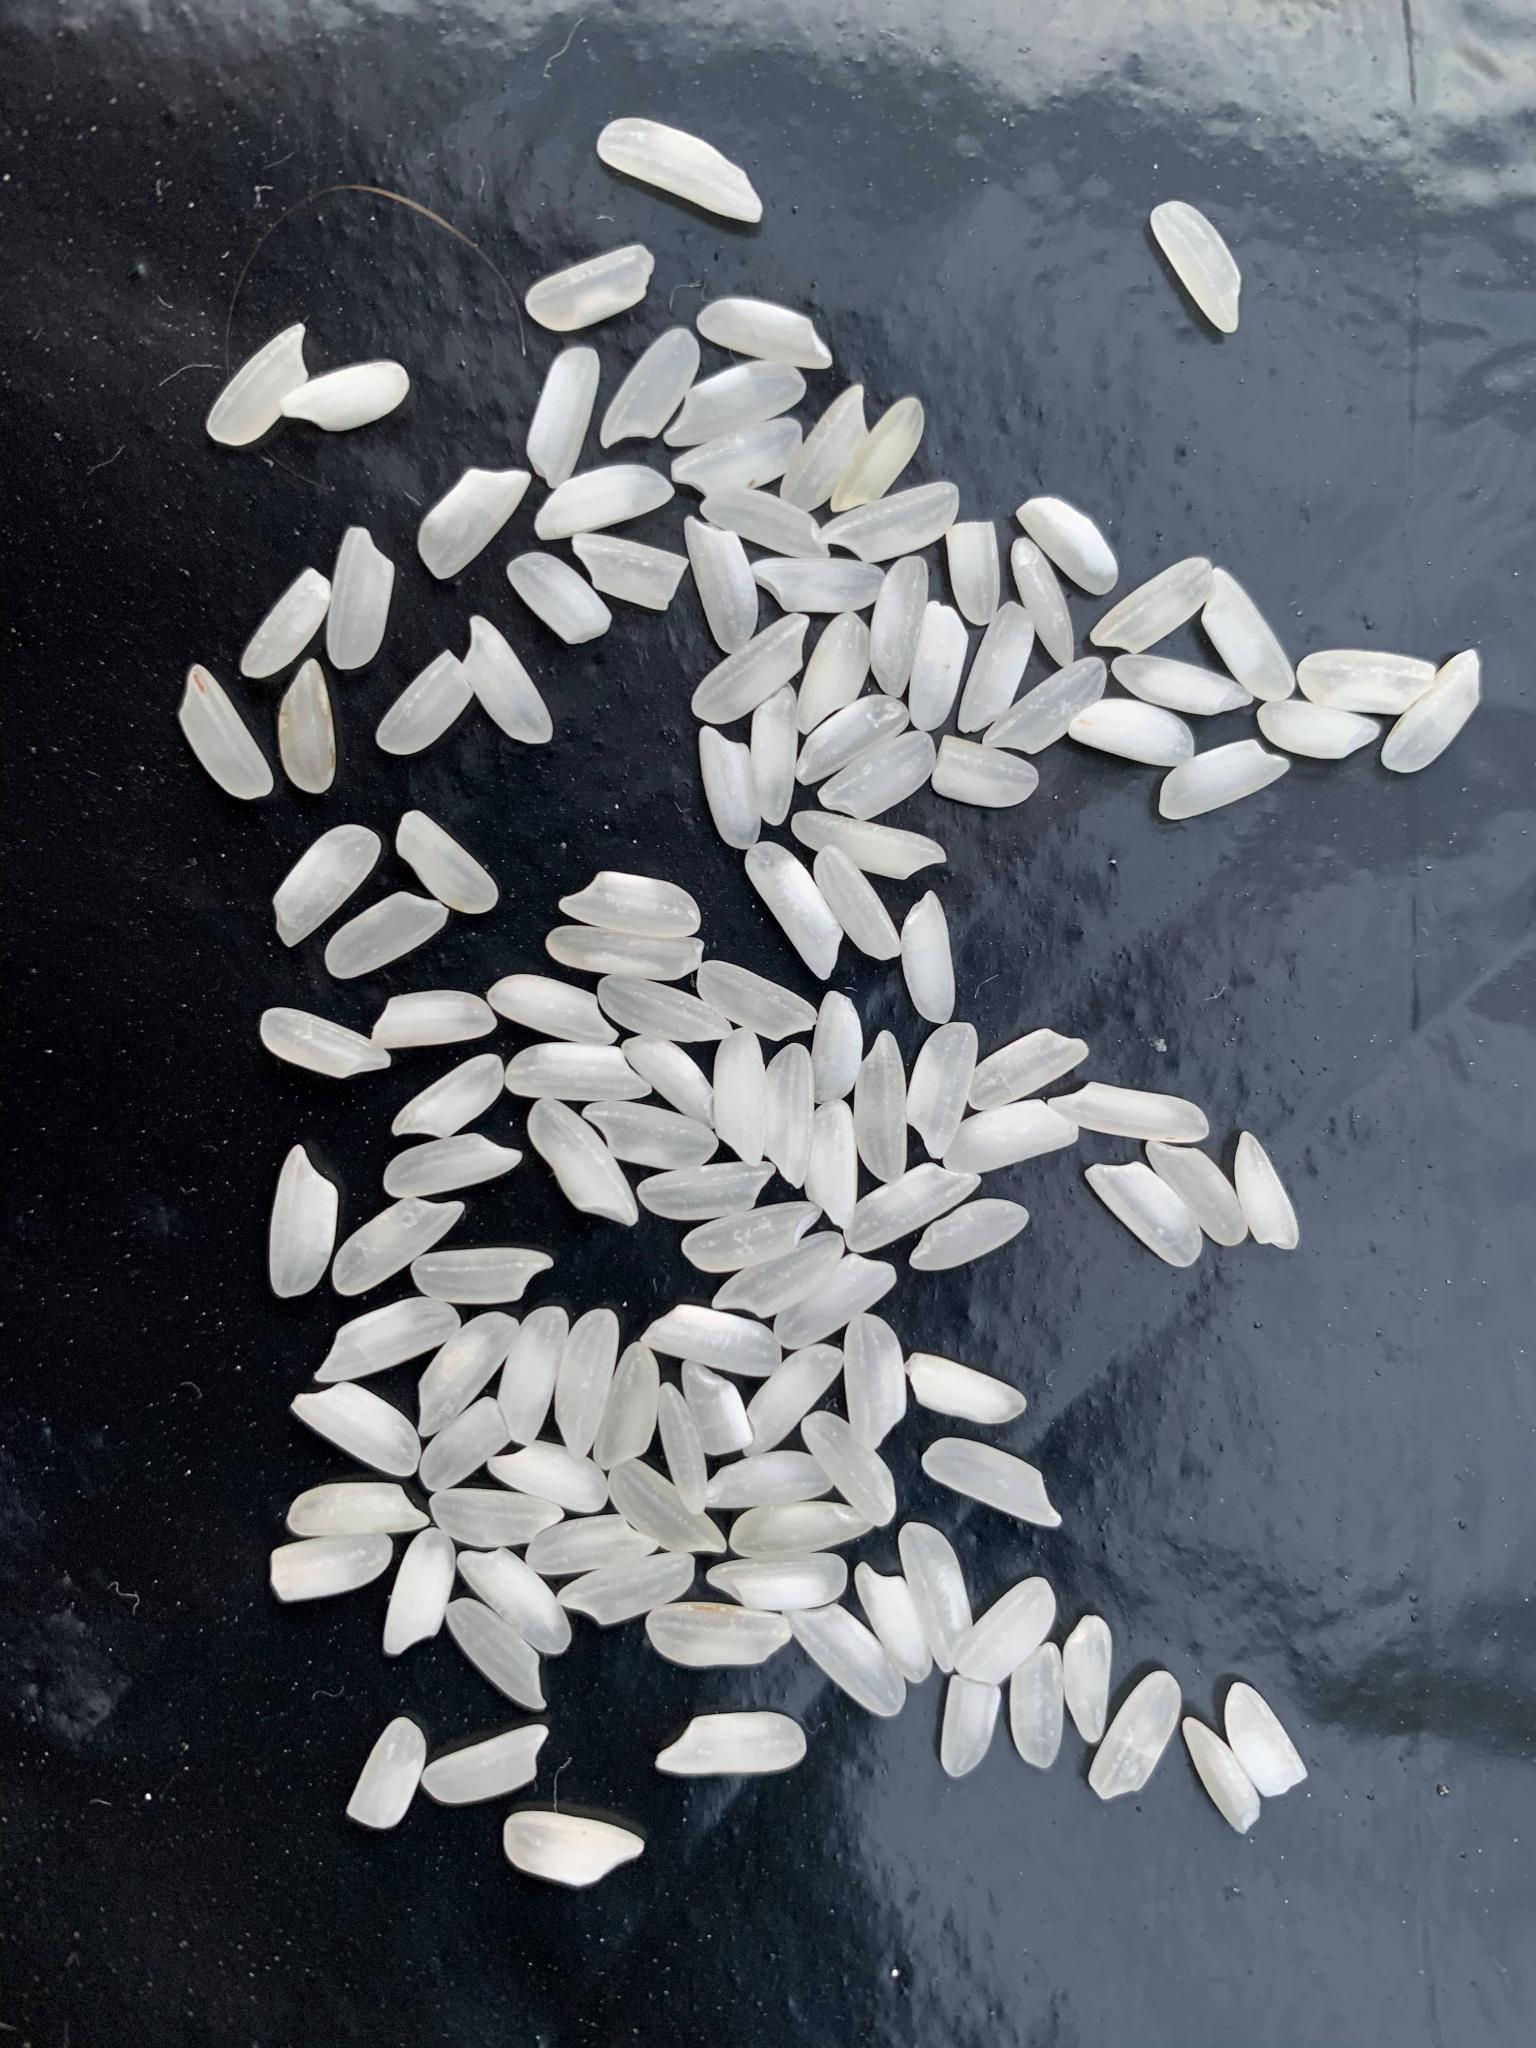rice: (597, 118, 763, 226), (528, 1097, 639, 1227), (781, 1603, 907, 1717), (744, 842, 842, 980), (691, 613, 810, 726), (273, 826, 381, 948), (332, 1198, 466, 1297), (177, 664, 274, 800), (416, 468, 532, 581), (203, 324, 308, 447), (1379, 648, 1483, 772), (1200, 569, 1296, 701), (981, 656, 1108, 755), (663, 361, 807, 448), (313, 1298, 465, 1380), (845, 1161, 981, 1253), (925, 1438, 1062, 1529), (458, 1546, 573, 1655), (1087, 1669, 1181, 1801), (1150, 202, 1242, 335), (289, 1382, 419, 1476), (1086, 1163, 1200, 1268), (599, 331, 700, 448), (463, 616, 553, 747), (607, 1458, 728, 1555), (1091, 558, 1212, 655), (774, 1255, 897, 1350), (897, 1521, 973, 1674), (779, 384, 870, 511), (744, 1343, 844, 1458), (524, 244, 653, 332), (800, 1409, 899, 1526), (502, 1809, 645, 1888), (447, 1598, 549, 1709), (534, 463, 676, 542), (821, 484, 960, 564), (1146, 1138, 1249, 1247), (829, 398, 925, 514), (324, 892, 449, 980), (715, 1230, 845, 1314), (524, 348, 600, 490), (671, 418, 803, 498), (397, 810, 499, 914), (957, 1577, 1057, 1684), (816, 731, 936, 819), (423, 1724, 553, 1804), (1158, 740, 1289, 821), (374, 650, 474, 755), (684, 516, 758, 656), (269, 1145, 337, 1298), (557, 1551, 695, 1625), (966, 1027, 1089, 1111), (795, 695, 908, 785), (641, 1305, 781, 1377), (681, 1201, 821, 1274), (958, 601, 1034, 735), (553, 1306, 620, 1459), (813, 845, 900, 961), (239, 568, 331, 677), (1016, 498, 1118, 597), (1049, 1082, 1212, 1143), (697, 961, 818, 1043), (907, 1022, 978, 1161), (326, 526, 394, 669), (944, 1100, 1078, 1172), (505, 553, 611, 643), (487, 974, 620, 1047), (279, 360, 408, 434), (581, 1101, 718, 1171), (699, 300, 836, 369), (558, 871, 702, 937), (652, 1713, 807, 1774), (855, 1561, 933, 1684), (645, 1603, 792, 1667), (390, 1055, 503, 1138), (381, 1527, 455, 1655), (500, 1308, 568, 1447), (258, 1009, 390, 1080), (1183, 1717, 1262, 1835), (573, 534, 691, 613), (345, 1716, 428, 1829), (1226, 1684, 1309, 1796), (595, 976, 733, 1043), (408, 1243, 558, 1305), (699, 490, 831, 560), (382, 1134, 523, 1198), (1297, 650, 1438, 714), (907, 1350, 1028, 1424), (908, 1198, 1029, 1272), (489, 1440, 608, 1514), (1112, 655, 1255, 716), (594, 1338, 660, 1471), (1070, 698, 1196, 768), (503, 1043, 653, 1101), (419, 1397, 510, 1492), (544, 927, 703, 980), (269, 1534, 394, 1601), (707, 1551, 849, 1609), (845, 1313, 904, 1455), (870, 556, 928, 698), (1013, 539, 1076, 669), (428, 1488, 566, 1546), (1233, 1130, 1299, 1251), (857, 1029, 908, 1184), (524, 1514, 658, 1574), (637, 1163, 774, 1221), (369, 990, 497, 1051), (282, 1482, 431, 1534), (281, 658, 337, 793), (750, 558, 886, 614), (934, 735, 1039, 808), (900, 889, 957, 1022), (699, 726, 760, 848), (729, 1501, 876, 1551), (765, 1043, 815, 1190), (910, 601, 966, 731), (708, 1451, 836, 1508), (1257, 700, 1379, 758), (713, 1027, 763, 1168), (803, 1100, 857, 1229), (750, 681, 797, 827), (1010, 1642, 1063, 1767), (681, 1363, 753, 1455), (1063, 1614, 1112, 1743), (662, 1384, 708, 1516), (941, 1675, 1000, 1777), (812, 992, 863, 1105), (950, 522, 1000, 626)
